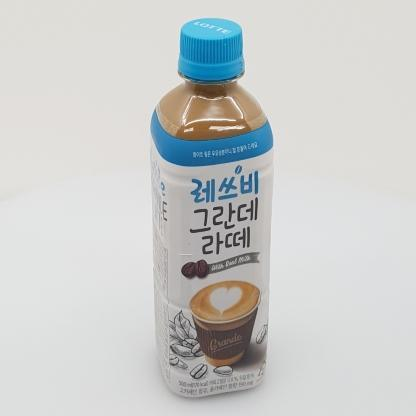--------500ML: (150, 17, 274, 398)
